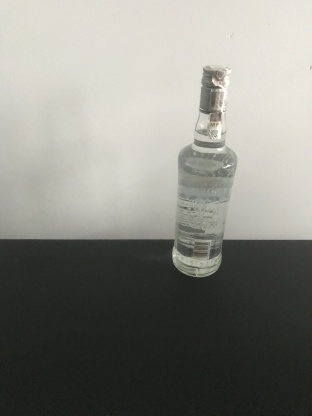nakretka: (197, 63, 232, 115)
